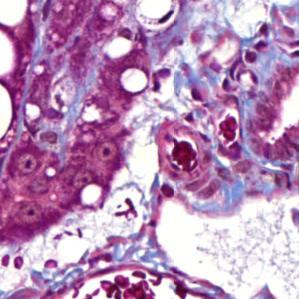steatosis: (104, 33, 135, 59), (121, 67, 147, 91)
